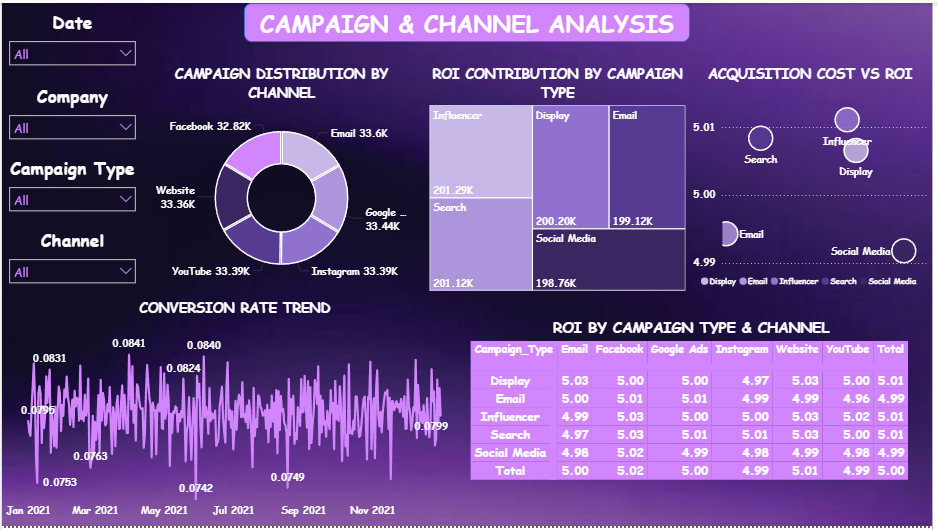

The page's visual inventory and layout, read from the dashboard file:
{"tool":"powerbi","page":{"name":"CAMPAIGN & CHANNEL ANALYSIS","canvas":[1280,720],"ordinal":1},"visuals":[{"type":"image","box":[0,0,1280,719.8],"z":0},{"type":"slicer","title":"Channel","fields":{"Values":["marketing_Cleaned.Channel_Used"]},"box":[0,309.7,194.1,90.8],"z":1000},{"type":"slicer","title":"Campaign Type","fields":{"Values":["marketing_Cleaned.Campaign_Type"]},"box":[0,210.6,194.1,99.1],"z":2000},{"type":"slicer","title":"Company","fields":{"Values":["marketing_Cleaned.Company"]},"box":[0,111.5,194.1,99.1],"z":3000},{"type":"slicer","title":"Date","fields":{"Values":["marketing_Cleaned.Date"]},"box":[0,9.6,194.1,101.8],"z":4000},{"type":"donutChart","title":"CAMPAIGN DISTRIBUTION BY CHANNEL","fields":{"Category":["marketing_Cleaned.Channel_Used"],"Y":["CountNonNull(marketing_Cleaned.Campaign_ID)"]},"box":[206.5,84,356.5,316.6],"z":5000},{"type":"lineChart","title":"CONVERSION RATE TREND","fields":{"Category":["marketing_Cleaned.Date"],"Y":["Avg(marketing_Cleaned.Conversion_Rate)"]},"box":[0,406.2,640.7,313.2],"z":6000},{"type":"scatterChart","title":"ACQUISITION COST VS ROI","fields":{"X":["Avg(marketing_Cleaned.Acquisition_Cost)"],"Y":["Avg(marketing_Cleaned.ROI)"],"Series":["marketing_Cleaned.Campaign_Type"],"Size":["Sum(marketing_Cleaned.Clicks)"]},"box":[945.5,84,333.1,316.6],"z":7000},{"type":"treemap","title":"ROI CONTRIBUTION BY CAMPAIGN TYPE","fields":{"Group":["marketing_Cleaned.Campaign_Type"],"Values":["Sum(marketing_Cleaned.ROI)"]},"box":[583.6,84,362,316.6],"z":8000},{"type":"pivotTable","title":"ROI BY CAMPAIGN TYPE & CHANNEL  ","fields":{"Rows":["marketing_Cleaned.Campaign_Type"],"Columns":["marketing_Cleaned.Channel_Used"],"Values":["Avg(marketing_Cleaned.ROI)"]},"box":[640,432.2,616.6,261.5],"z":9000},{"type":"shape","box":[333.1,0,613.8,53.7],"z":10000},{"type":"textbox","box":[0,0,1280,54.6],"z":11000}]}

Visuals, with their boxes in screenshot pixels (x1, y1, x2, y2), scaled from the page's 1280x720 canvas onto the 938x530 screenshot:
image: crop(0, 0, 937, 529)
"Channel" slicer: crop(0, 228, 142, 295)
"Campaign Type" slicer: crop(0, 155, 142, 228)
"Company" slicer: crop(0, 82, 142, 155)
"Date" slicer: crop(0, 7, 142, 82)
"CAMPAIGN DISTRIBUTION BY CHANNEL" donutChart: crop(151, 62, 413, 295)
"CONVERSION RATE TREND" lineChart: crop(0, 299, 470, 529)
"ACQUISITION COST VS ROI" scatterChart: crop(693, 62, 937, 295)
"ROI CONTRIBUTION BY CAMPAIGN TYPE" treemap: crop(428, 62, 693, 295)
"ROI BY CAMPAIGN TYPE & CHANNEL  " pivotTable: crop(469, 318, 921, 511)
shape: crop(244, 0, 694, 40)
textbox: crop(0, 0, 937, 40)
